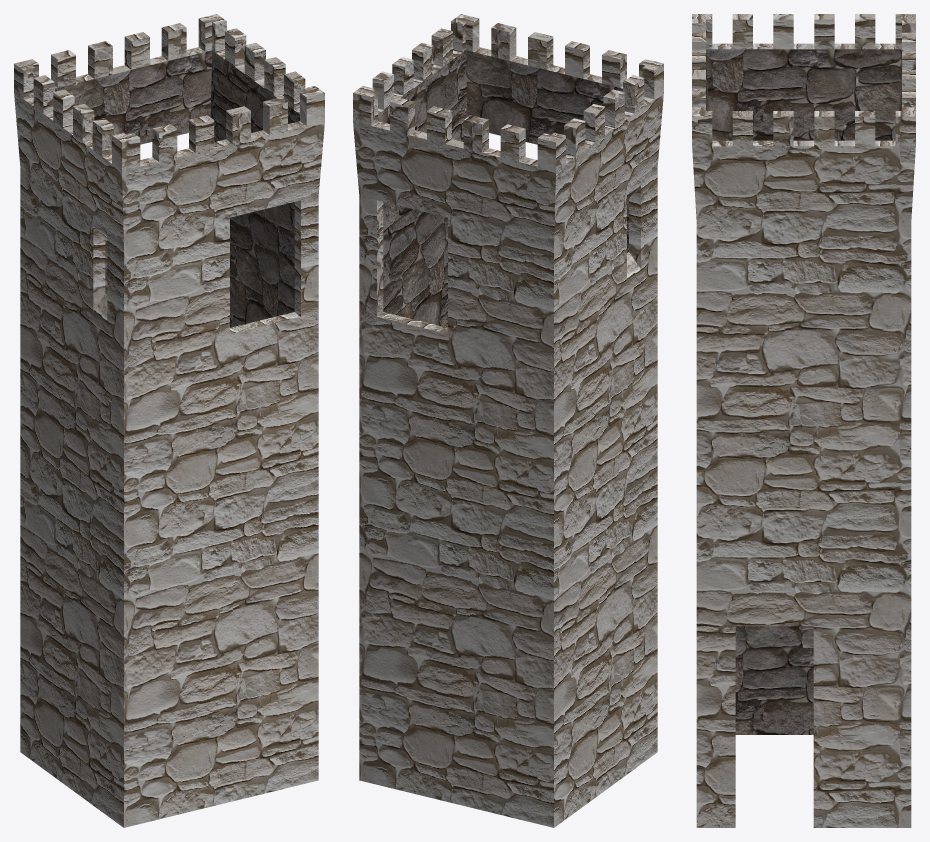
The model's file is tower_6.fbx.
3 views of the same model, side by side, from view 1: azimuth 30°, elevation 25°; view 2: azimuth 150°, elevation 25°; view 3: azimuth 270°, elevation 25° (orthographic). The views are drawn at different scales.
Visible parts, largest first — view 1: Cube.024; view 2: Cube.024; view 3: Cube.024.
Boxes of the visible parts, x1=… form: Cube.024: x1=14, y1=14, x2=324, y2=827; Cube.024: x1=353, y1=14, x2=663, y2=827; Cube.024: x1=692, y1=14, x2=915, y2=827.
Size of the model in its own units: 606 by 1963 by 558.
2 materials, 2 textured.
